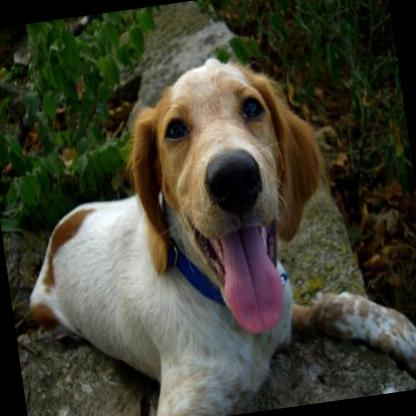Brittany_spaniel: (0, 29, 416, 416)
